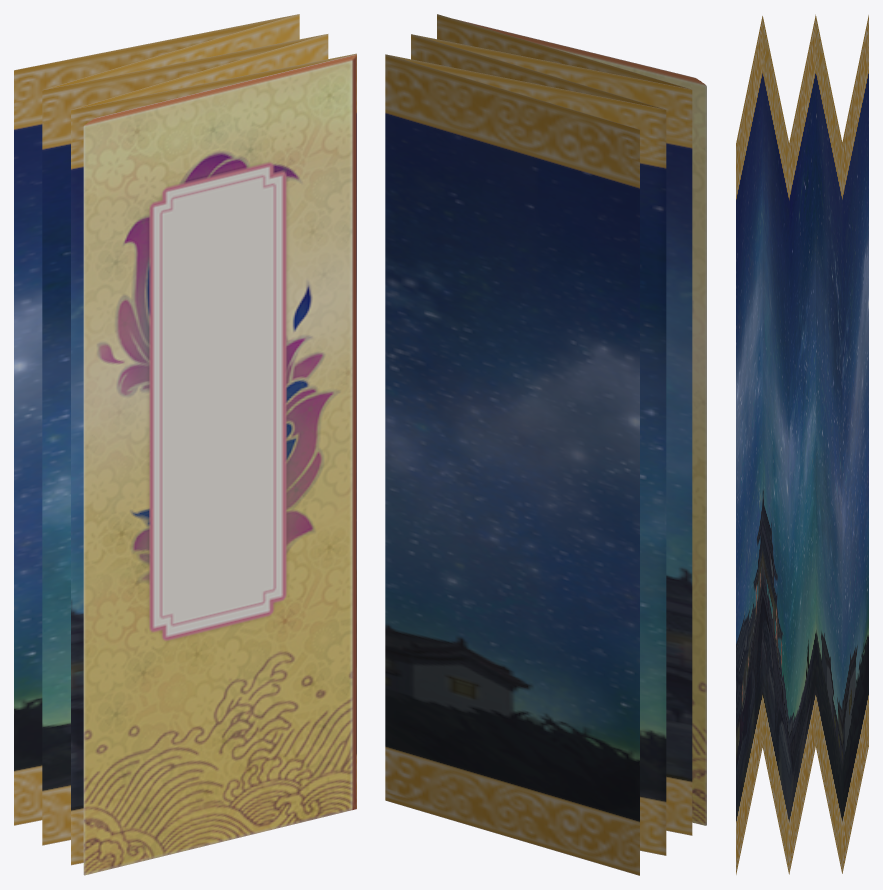
File: wuti_zhezi.FBX
The picture shows the model from 3 angles, left to right: view 1: azimuth 30°, elevation 25°; view 2: azimuth 150°, elevation 25°; view 3: azimuth 270°, elevation 25°; orthographic projection. The views are drawn at different scales.
Visible parts, largest first — view 1: ye00, ye03, ye05, ye01, ye02, ye04; view 2: ye05, ye02, ye04, ye00, ye01, ye03; view 3: ye02, ye03, ye01, ye05, ye04.
Boxes of the visible parts, left/top/right/bottom form: ye00: left=83, top=54, right=356, bottom=875; ye03: left=42, top=34, right=325, bottom=845; ye05: left=14, top=14, right=297, bottom=825; ye01: left=71, top=53, right=356, bottom=865; ye02: left=72, top=34, right=328, bottom=109; ye04: left=44, top=14, right=299, bottom=89; ye05: left=385, top=54, right=639, bottom=875; ye02: left=411, top=34, right=692, bottom=835; ye04: left=387, top=54, right=666, bottom=855; ye00: left=454, top=19, right=706, bottom=825; ye01: left=437, top=14, right=690, bottom=89; ye03: left=411, top=34, right=664, bottom=109; ye02: left=762, top=16, right=789, bottom=874; ye03: left=789, top=14, right=815, bottom=873; ye01: left=736, top=16, right=762, bottom=874; ye05: left=842, top=15, right=868, bottom=873; ye04: left=816, top=16, right=842, bottom=873.
Bounding box in the file's own units: 1.3 × 3.42 × 0.5626.
